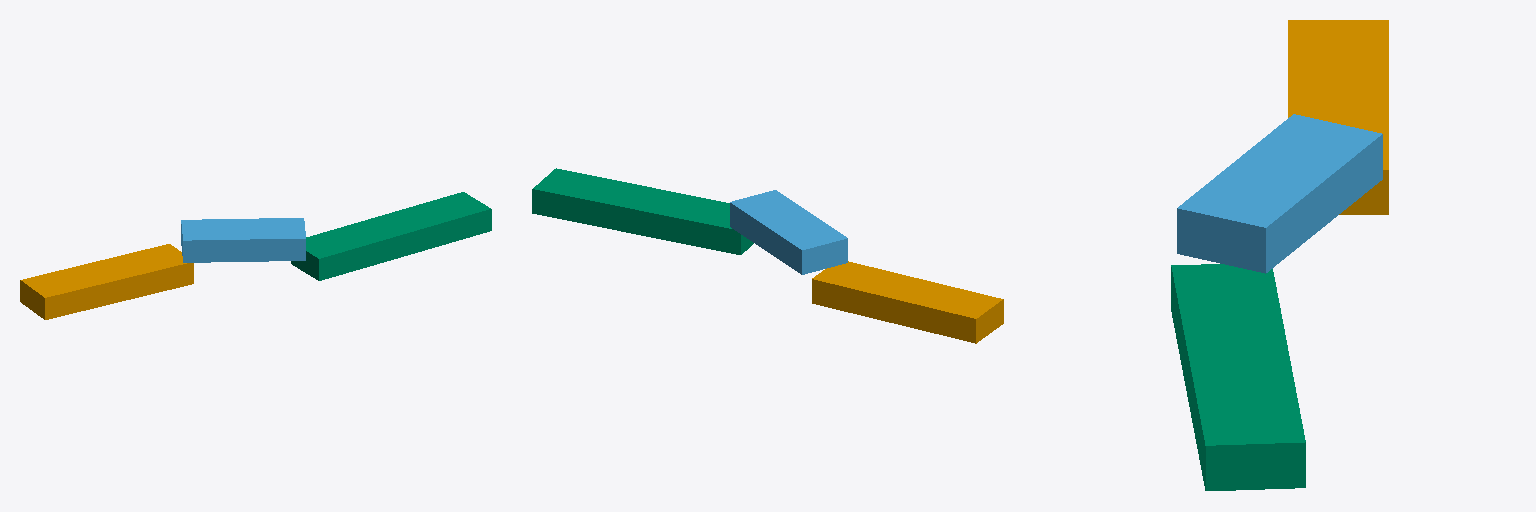
robot.urdf — test_data_v8:
<?xml version="1.0" encoding="utf-8"?>
<robot name="test_data_v8">
	<link name="link0:1">
		<inertial>
			<mass value="0.1099"/>
			<origin rpy="0 0 0" xyz="0.035 0.01 0.005"/>
			<inertia ixx="4.579166666666662e-06" ixy="0.0" ixz="0.0" iyy="4.579166666666663e-05" iyz="0.0" izz="4.8539166666666644e-05"/>
		</inertial>
		<collision name="link0:1_collision">
			<origin rpy="0.0 -0.0 0.0" xyz="0.0 0.0 0.0"/>
			<geometry>
				<mesh filename="./meshes/link0.stl" scale="1.0 1.0 1.0"/>
			</geometry>
		</collision>
		<visual name="link0:1_visual">
			<origin rpy="0.0 -0.0 0.0" xyz="0.0 0.0 0.0"/>
			<geometry>
				<mesh filename="./meshes/link0.stl" scale="1.0 1.0 1.0"/>
			</geometry>
		</visual>
	</link>
	<link name="link1:1">
		<inertial>
			<mass value="0.07849999999999999"/>
			<origin rpy="0 0 0" xyz="0.02214494800396309 -0.011601779083475563 0.0049999999999999975"/>
			<inertia ixx="6.22936942161427e-06" ixy="5.647119064363586e-06" ixz="0.0" iyy="1.4049797245052353e-05" iyz="1.3877787807814457e-21" izz="1.897083333333347e-05"/>
		</inertial>
		<collision name="link1:1_collision">
			<origin rpy="-2.8416163238540394e-17 5.4239479381733904e-17 -0.4825857353042073" xyz="-0.07550454524607213 0.028267713865536566 3.469446951953614e-18"/>
			<geometry>
				<mesh filename="./meshes/link1.stl" scale="1.0 1.0 1.0"/>
			</geometry>
		</collision>
		<visual name="link1:1_visual">
			<origin rpy="-2.8416163238540394e-17 5.4239479381733904e-17 -0.4825857353042073" xyz="-0.07550454524607213 0.028267713865536566 3.469446951953614e-18"/>
			<geometry>
				<mesh filename="./meshes/link1.stl" scale="1.0 1.0 1.0"/>
			</geometry>
		</visual>
	</link>
	<link name="link2:1">
		<inertial>
			<mass value="0.13344999999999999"/>
			<origin rpy="0 0 0" xyz="0.04236358335648102 0.0034024704551965934 -0.005000000000000004"/>
			<inertia ixx="6.046880830992473e-06" ixy="-6.056882916905515e-06" ixz="2.2204460492503132e-20" iyy="8.097364000233967e-05" iyz="0.0" izz="8.479635416666582e-05"/>
		</inertial>
		<collision name="link2:1_collision">
			<origin rpy="1.5707963267948966 1.1698926785825094e-16 0.08014389543610845" xyz="0.0008005812835756715 -0.009967901966230831 -0.009999999999999998"/>
			<geometry>
				<mesh filename="./meshes/link2.stl" scale="1.0 1.0 1.0"/>
			</geometry>
		</collision>
		<visual name="link2:1_visual">
			<origin rpy="1.5707963267948966 1.1698926785825094e-16 0.08014389543610845" xyz="0.0008005812835756715 -0.009967901966230831 -0.009999999999999998"/>
			<geometry>
				<mesh filename="./meshes/link2.stl" scale="1.0 1.0 1.0"/>
			</geometry>
		</visual>
	</link>
	<joint name="rev0" type="continuous">
		<parent link="link1:1"/>
		<child link="link2:1"/>
		<origin rpy="0 0 0" xyz="0.04428989600792618 -0.023203558166951126 -8.673617379884035e-18"/>
		<axis xyz="-6.123233995856202e-17 0.0 -1.0"/>
	</joint>
	<joint name="rev1" type="continuous">
		<parent link="link0:1"/>
		<child link="link1:1"/>
		<origin rpy="0 0 0" xyz="0.07 0.01 0.01"/>
		<axis xyz="0.0 0.0 1.0"/>
	</joint>
</robot>

--- Render facts (derived) ---
The picture shows the robot from 3 angles, left to right: view 1: azimuth 30°, elevation 25°; view 2: azimuth 150°, elevation 25°; view 3: azimuth 270°, elevation 25°; orthographic projection.
Model test_data_v8 with 3 links and 2 joints (2 continuous), rooted at link0:1, posed every joint at zero.
Visible links, largest first — view 1: link2:1, link0:1, link1:1; view 2: link2:1, link0:1, link1:1; view 3: link2:1, link1:1, link0:1.
Link boxes in pixels (x1,y1,x2,y2): link2:1: (291,192,491,280); link0:1: (20,244,193,319); link1:1: (181,218,305,262); link2:1: (532,168,753,254); link0:1: (812,261,1003,343); link1:1: (730,190,847,274); link2:1: (1171,264,1305,490); link1:1: (1177,114,1382,273); link0:1: (1288,20,1388,214).
Bounding box of the posed robot: 0.1998 × 0.0432 × 0.02 m (x, y, z).
3 mesh visuals loaded from 3 distinct referenced files (3 binary STL).